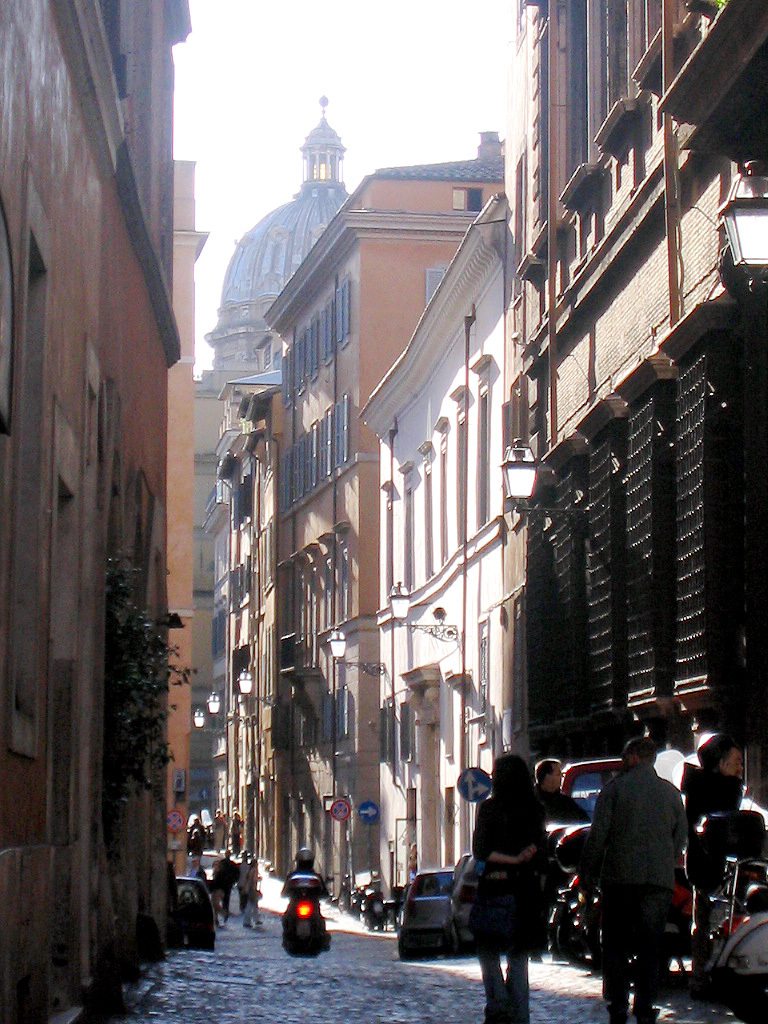Person: (190, 733, 764, 1024)
